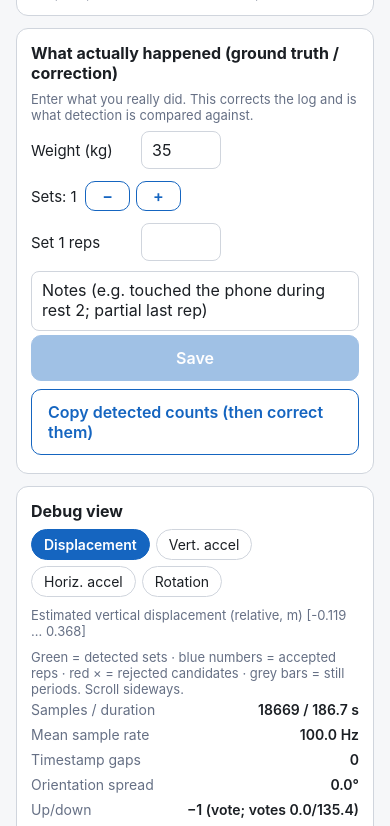
Test case: DetailScreen › shows detected counts, saves the actual counts and shows the comparison
(page scrolled)
Click the button "Copy detected counts (then correct them)" at {"x": 195, "y": 422}, box [31,389,359,455]
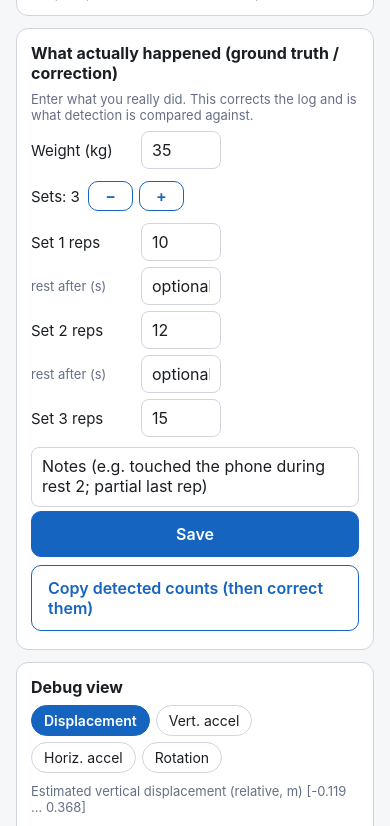
Click the button "Save" at {"x": 195, "y": 534}, box [31,511,359,557]
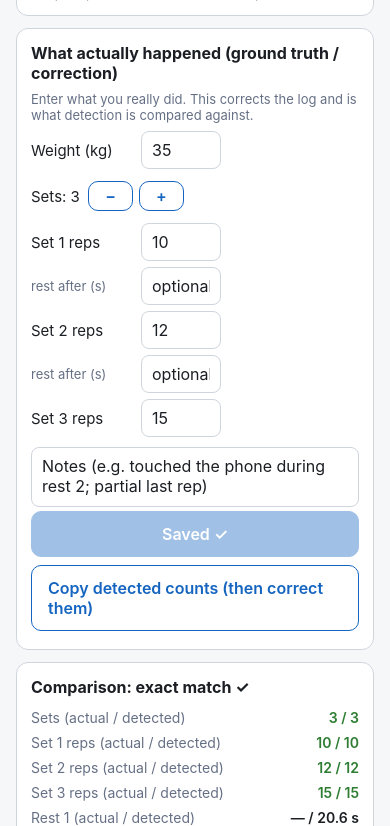
expect the text "Comparison: exact match ✓" is shown: met, box [31,677,249,697]
